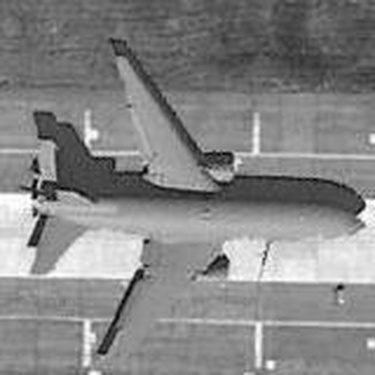airplane: (23, 24, 373, 368)
